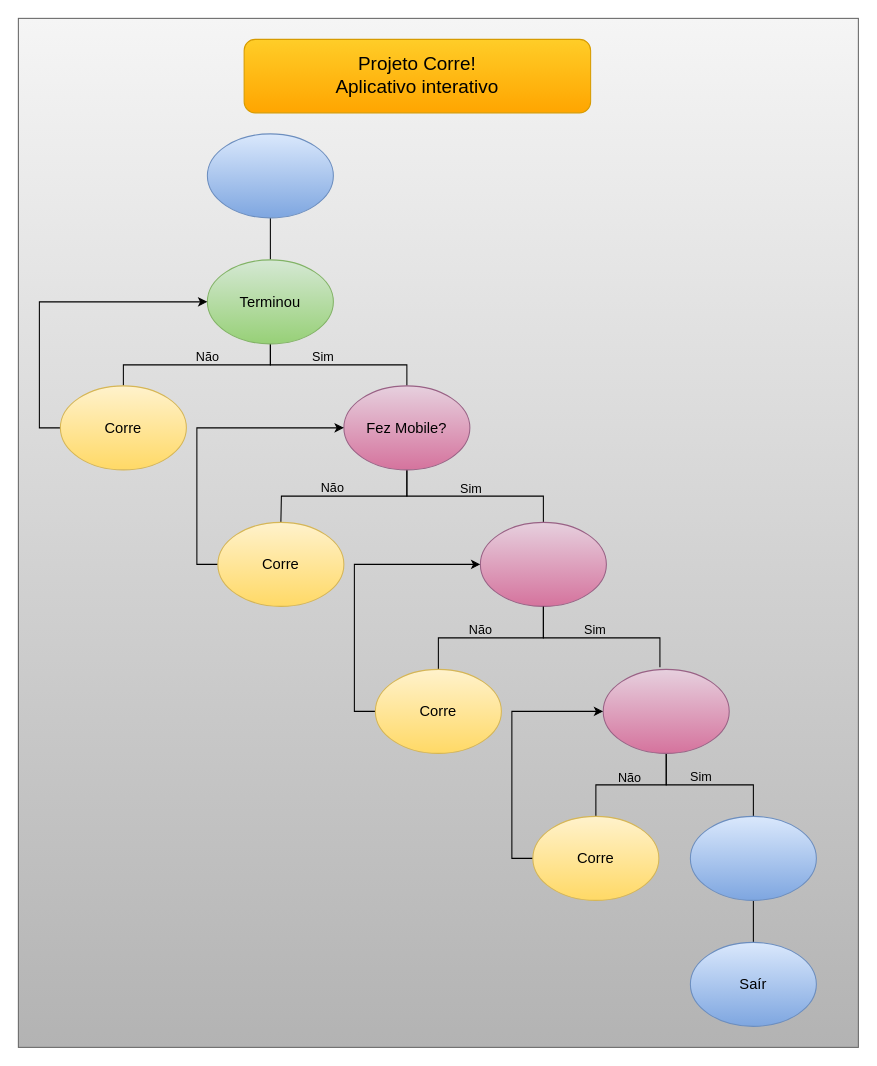
The diagram is 877 pixels wide and 1066 high, and some of its shapes have lost their labels. The shapes that lost their labels are listed below. From the top down, each one's box as (x1, y1, x2, y2) in pixels, then its label:
(206, 133, 333, 218): Início
(479, 521, 606, 606): Fez Documentação?
(602, 668, 729, 753): Fez Apresentação?
(689, 815, 816, 900): Fim
